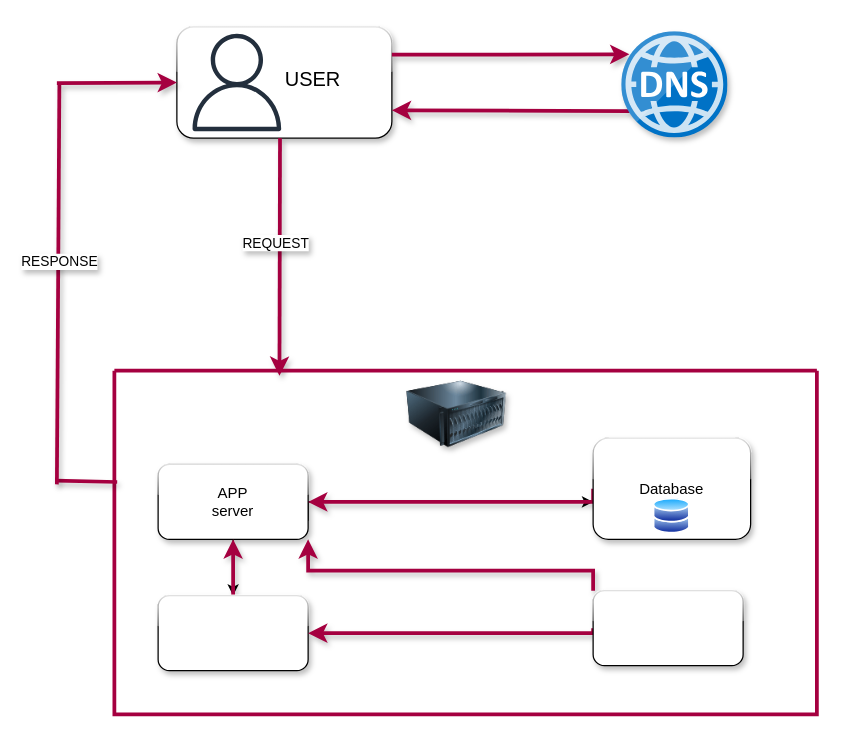
Image size: 841x738. Some labels were removed from this diagram. Each missing label, with the centre of its shape:
"Codebase" goes at [669,629].
"Web server" goes at [234,634].
